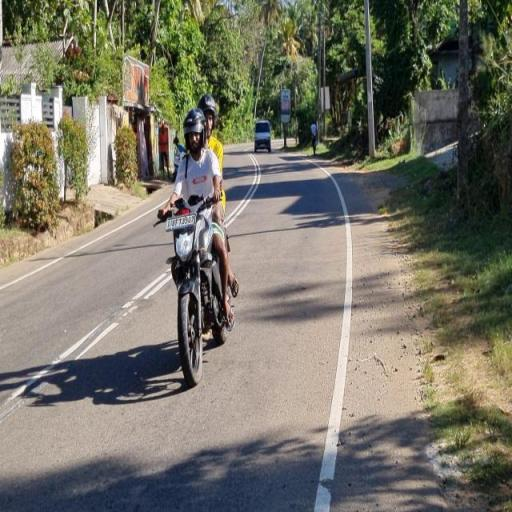double_white_line: (120, 271, 169, 317)
